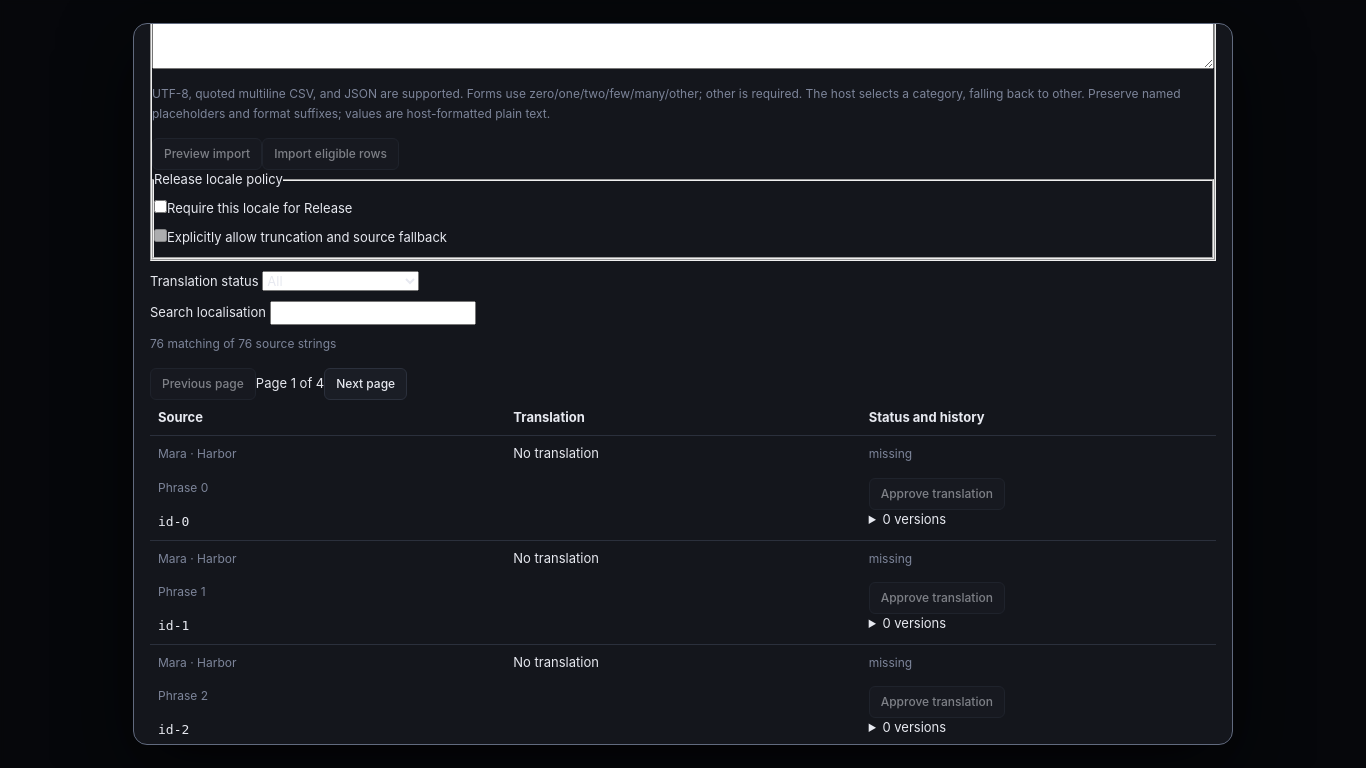
Test: pages the whole catalog and combines search with translation status
(page scrolled)
Check: the text "76 matching of 76 source strings" is shown, box [150,336,336,351]
Click the button "Next page" at (366, 384), box [324,368,407,400]
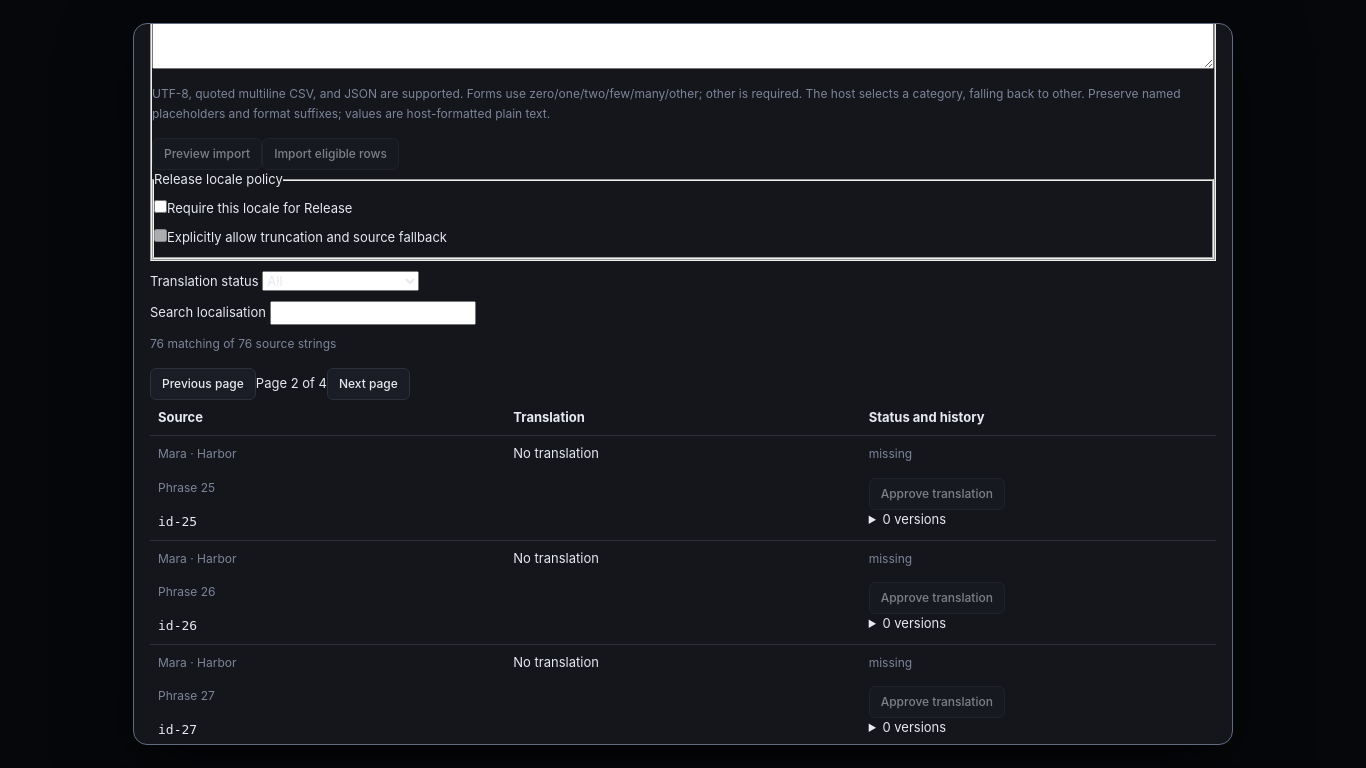
Check: the text "Page 2 of 4" is shown, box [256,375,327,391]
Type "Phrase 75" into the field labelled "Search localisation" at (373, 313), box [270,301,476,324]
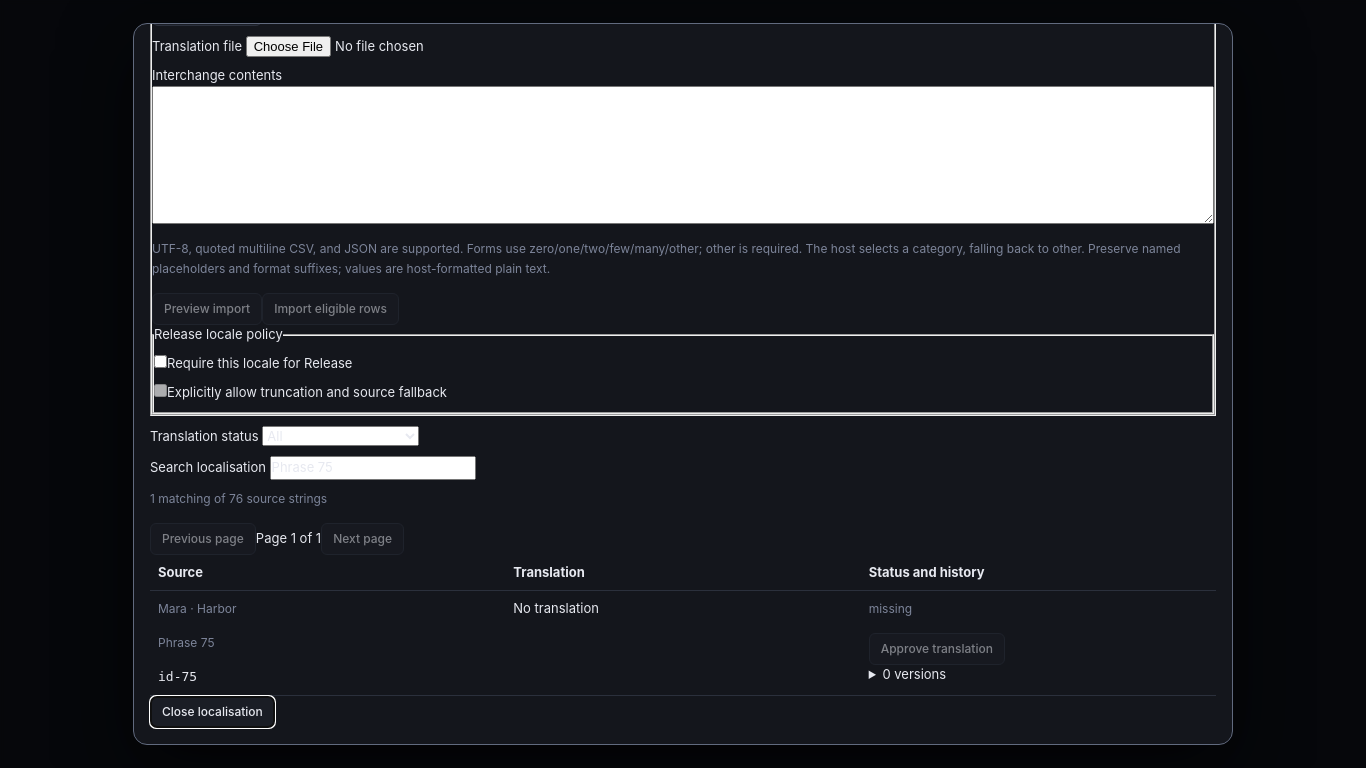
Check: the text "1 matching of 76 source strings" is shown, box [150,491,327,506]
Check: the text "Phrase 75" is shown, box [158,635,214,650]
Select "Approved and current" in the dropdown labelled "Translation status" at (341, 436), box [262,426,419,446]
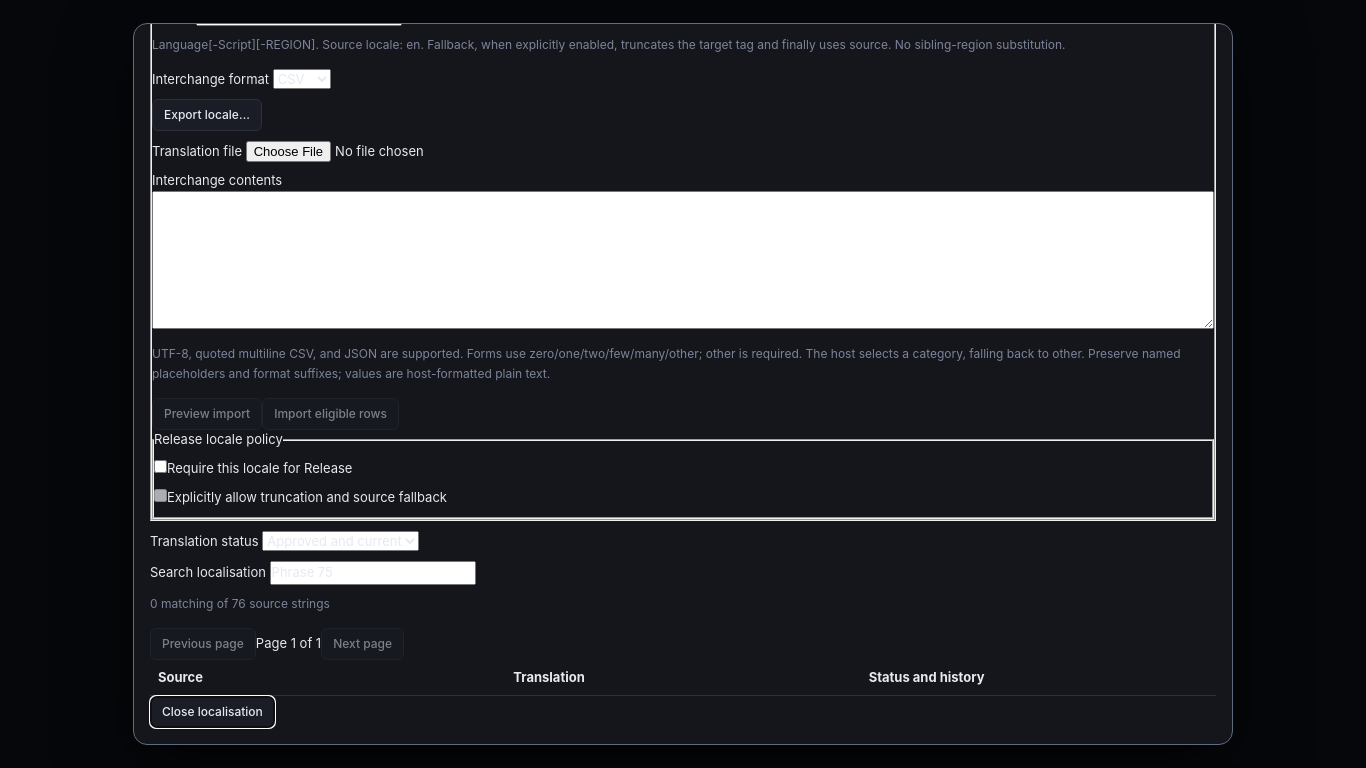
Check: the text "0 matching of 76 source strings" is shown, box [150,596,330,611]
